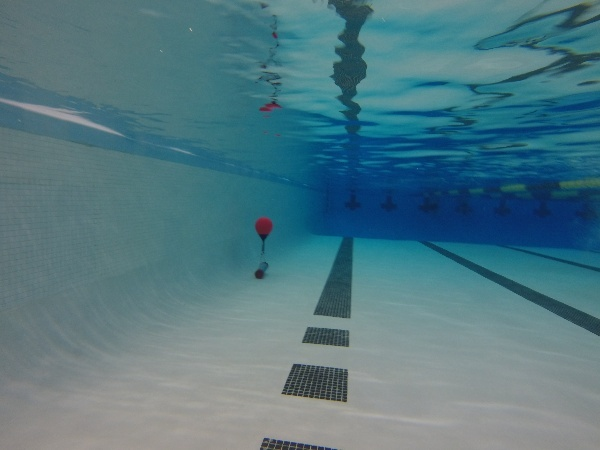buoy_red: (253, 215, 275, 245)
